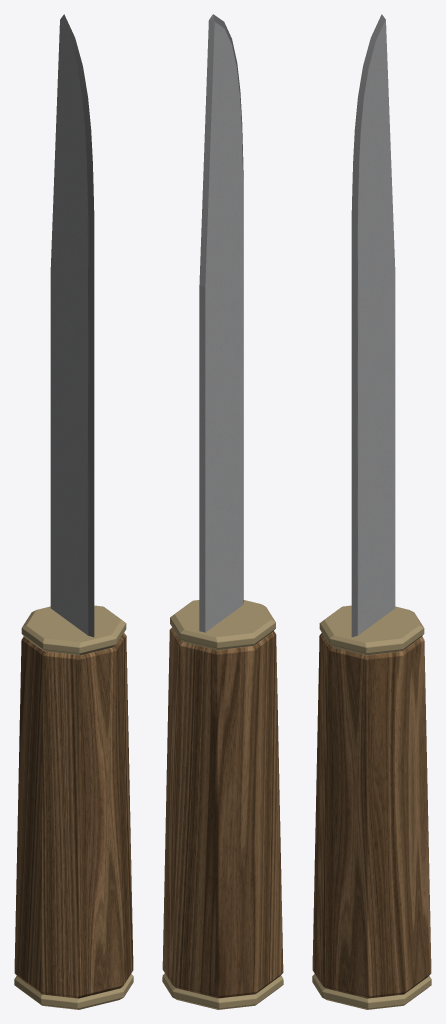
Rendered from AnkaliaKnife.FBX.
The picture shows the model from 3 angles, left to right: view 1: azimuth 30°, elevation 25°; view 2: azimuth 150°, elevation 25°; view 3: azimuth 330°, elevation 25°; orthographic projection.
Parts seen in each view (by area): view 1: AnkaliaKnife; view 2: AnkaliaKnife; view 3: AnkaliaKnife.
Part boxes in pixels (box(x1,y1,x2,y2)): AnkaliaKnife: box(14, 14, 133, 1009); AnkaliaKnife: box(162, 14, 283, 1009); AnkaliaKnife: box(312, 14, 431, 1009).
Size of the model in its own units: 0.9991 by 9.94 by 0.9991.
